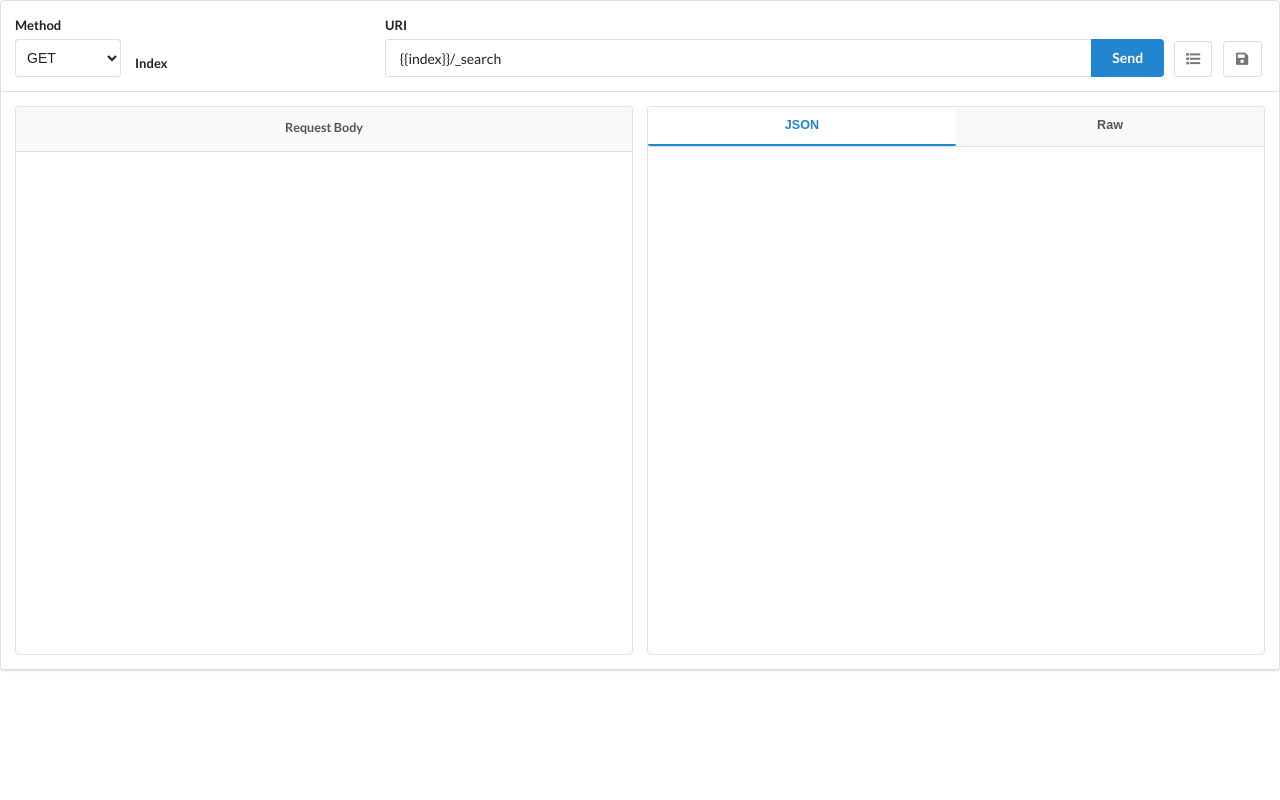
Scenario: PlaygroundLayout response pane › opens a text response in the Raw view with JSON unavailable
Step 1. Click the button "Send" → click(1128, 58), box [1091,39,1164,77]
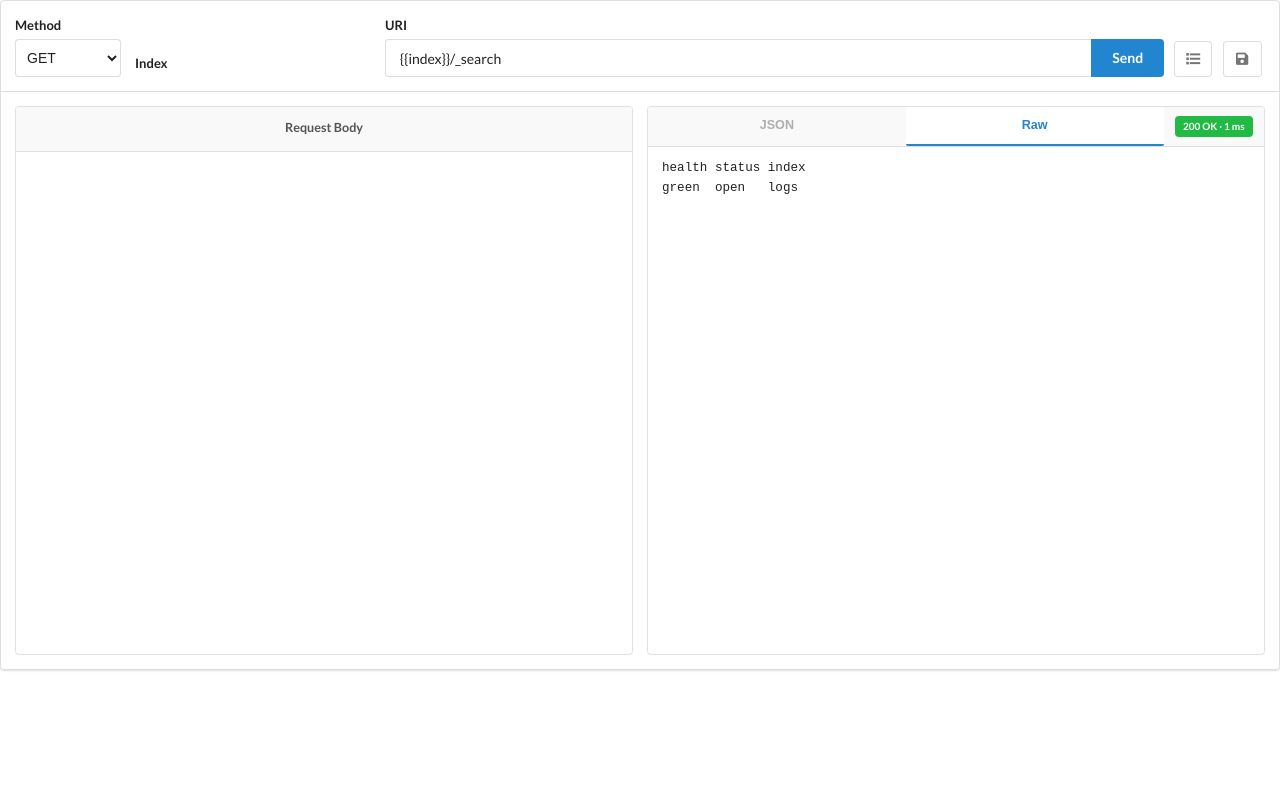
Result: the button "JSON" is disabled at [648,107,906,146]
